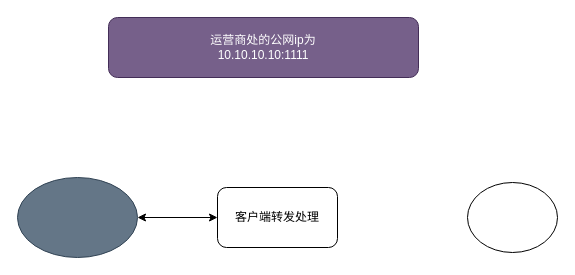
Image size: 575x275. Some labels were removed from this diagram. Each missing label, with the box of its shape:
外部: (466, 182, 558, 252)
客户端部署的服务器 127.0.0.1:80: (16, 176, 138, 258)
